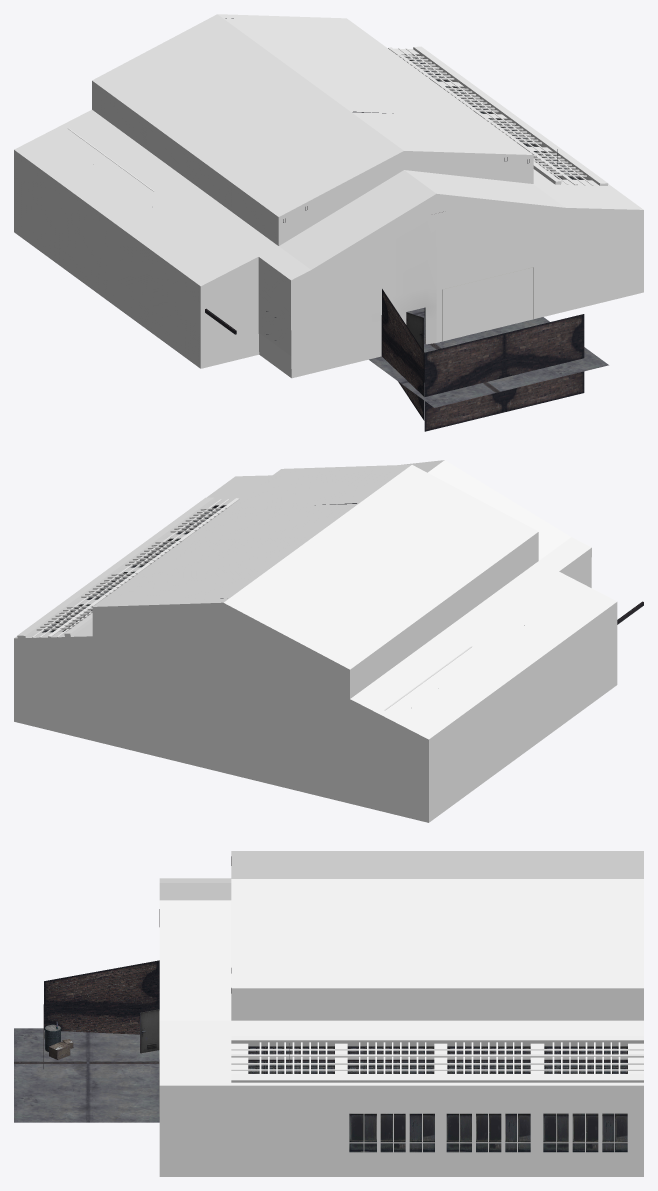
Rendered from nfsnfs.obj.
3 views of the same model, one above another, from view 1: azimuth 30°, elevation 25°; view 2: azimuth 150°, elevation 25°; view 3: azimuth 270°, elevation 25° (orthographic). The views are drawn at different scales.
Parts seen in each view (by area): view 1: Object_19, Object_11, Object_7; view 2: Object_19, Object_13; view 3: Object_19, Object_13, Object_7, Object_11, Object_24.
Part boxes in pixels (x1,y1,x2,y2): Object_19: [14, 14, 643, 378]; Object_11: [205, 157, 584, 431]; Object_7: [369, 307, 608, 407]; Object_19: [14, 460, 617, 822]; Object_13: [42, 507, 223, 632]; Object_19: [159, 851, 643, 1176]; Object_13: [248, 1046, 627, 1151]; Object_7: [14, 1028, 159, 1122]; Object_11: [43, 856, 627, 1151]; Object_24: [44, 1021, 73, 1059].
Bounding box in the file's own units: 19.7 × 9.31 × 23.69.
Materials: 8 (7 with a texture image).
